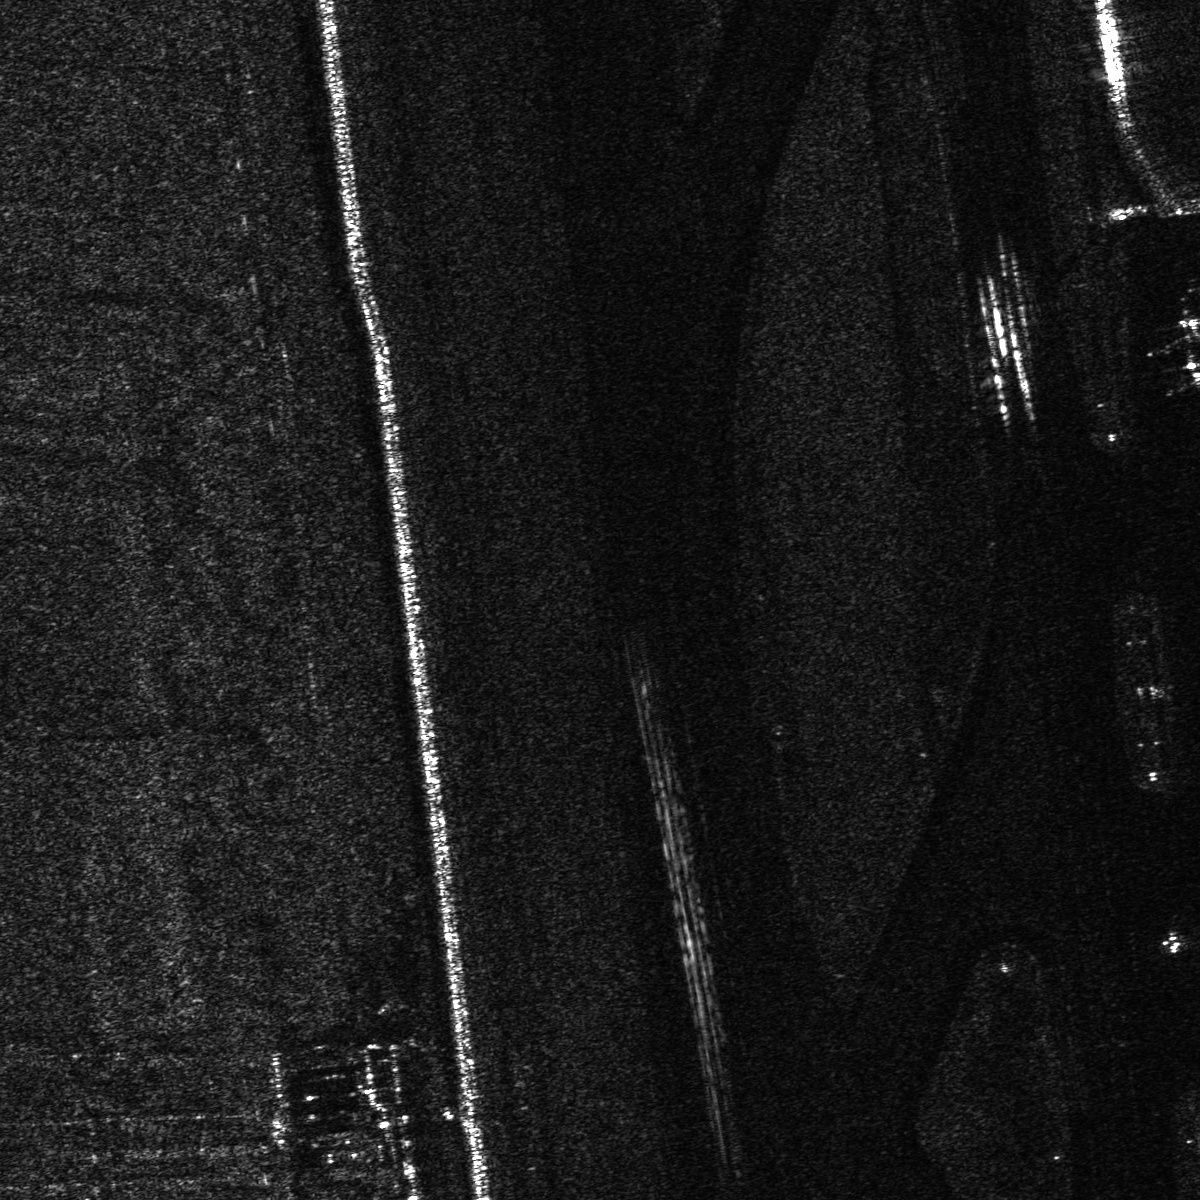A220: (1145, 311, 1199, 390)
